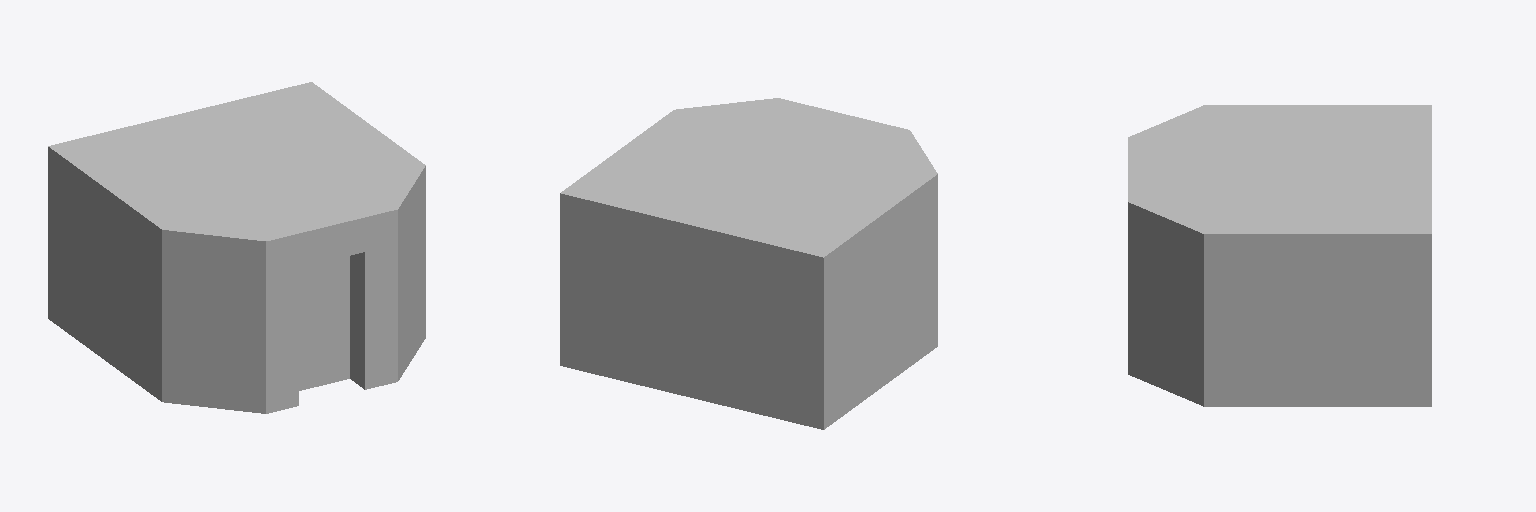
File: building-edges-door.obj
3 views of the same model, side by side, from view 1: azimuth 30°, elevation 25°; view 2: azimuth 150°, elevation 25°; view 3: azimuth 270°, elevation 25° (orthographic).
Visible parts, largest first — view 1: building-edges-door; view 2: building-edges-door; view 3: building-edges-door.
Boxes of the visible parts, box(x1,y1,x2,y2) form: building-edges-door: box(48, 82, 425, 413); building-edges-door: box(560, 98, 937, 429); building-edges-door: box(1128, 105, 1431, 406).
Size of the model in its own units: 1 by 0.625 by 1.